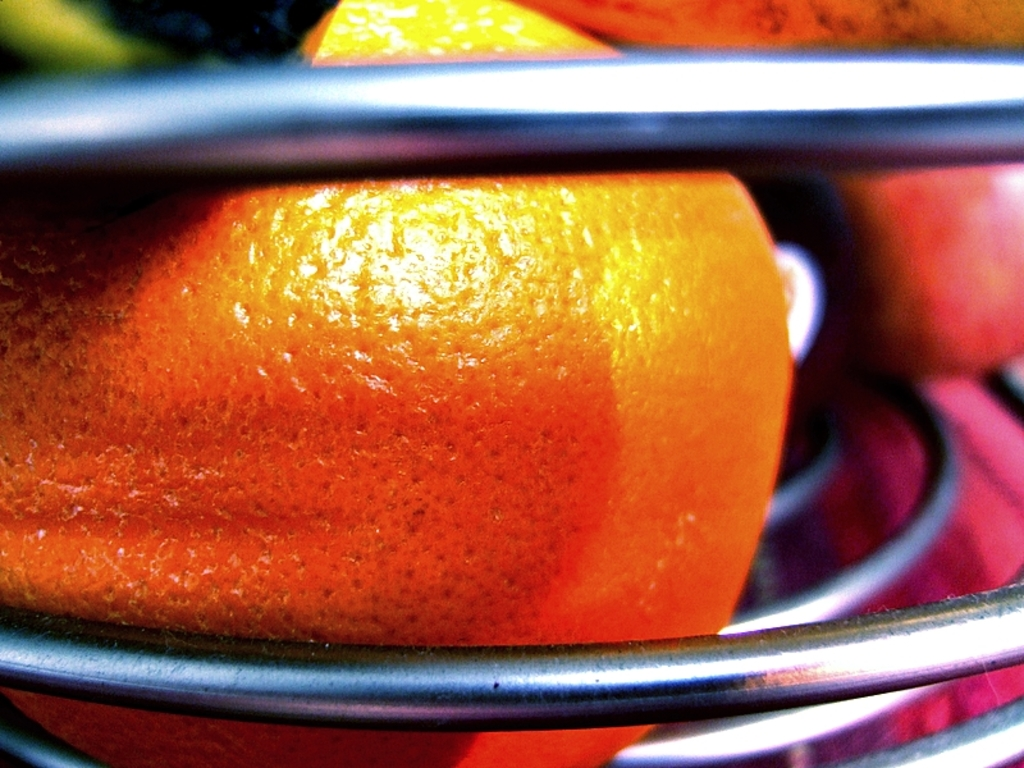Ripe: (0, 0, 791, 767)
